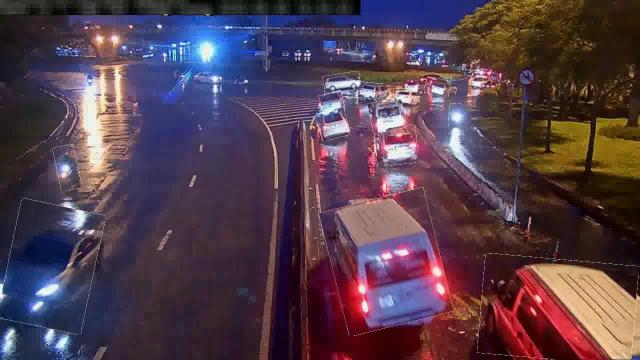Bike: (56, 145, 80, 191), (449, 103, 461, 126)
Bus: (326, 193, 446, 331), (479, 256, 637, 360), (369, 99, 406, 133)
Car: (2, 202, 100, 330), (374, 126, 418, 166), (317, 108, 349, 140), (324, 72, 361, 92), (320, 91, 344, 113), (357, 82, 385, 100), (425, 78, 451, 96), (394, 88, 420, 105)
